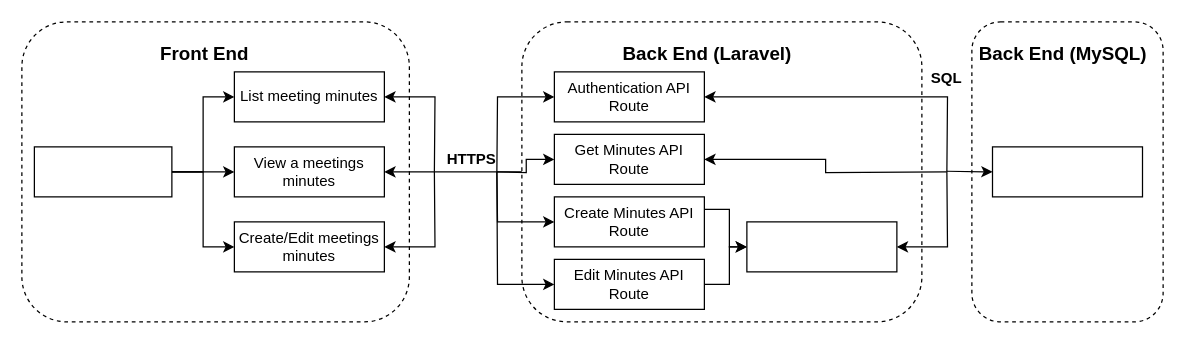
Image size: 1195x344. Some labels were removed from this diagram. The centre of each missing label's shape, as x and y in pixels:
"Add/Edit/Remove data from database" goes at [1066,171].
"Login" goes at [102,171].
"Validate minutes follow the correct schema" goes at [821,246].
